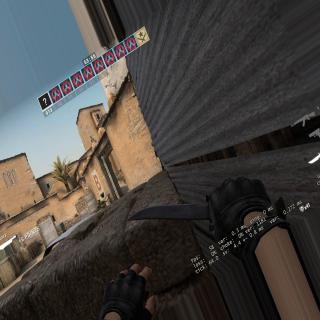CT-Body: (97, 191, 108, 207)
CT-Head: (100, 191, 104, 196)
